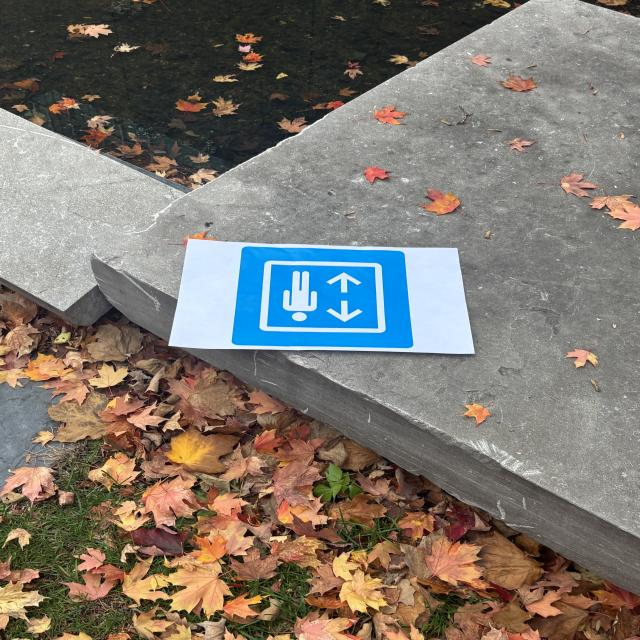elevator: (235, 245, 411, 347)
